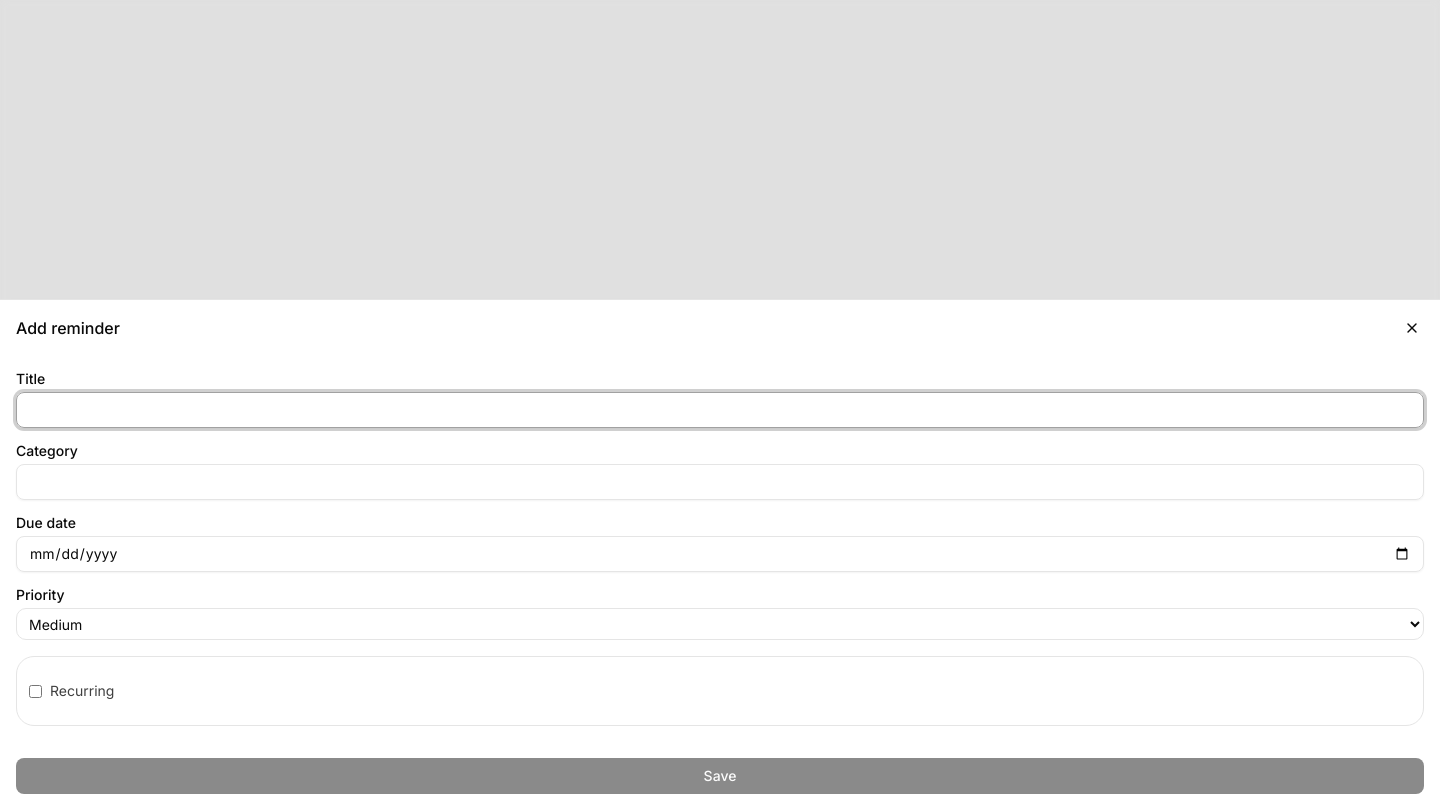
ReminderForm › disables save when Custom frequency is selected and the interval count is cleared
Type "Water plants" into the field labelled "Title" at x=720, y=410, box [16, 392, 1424, 428]
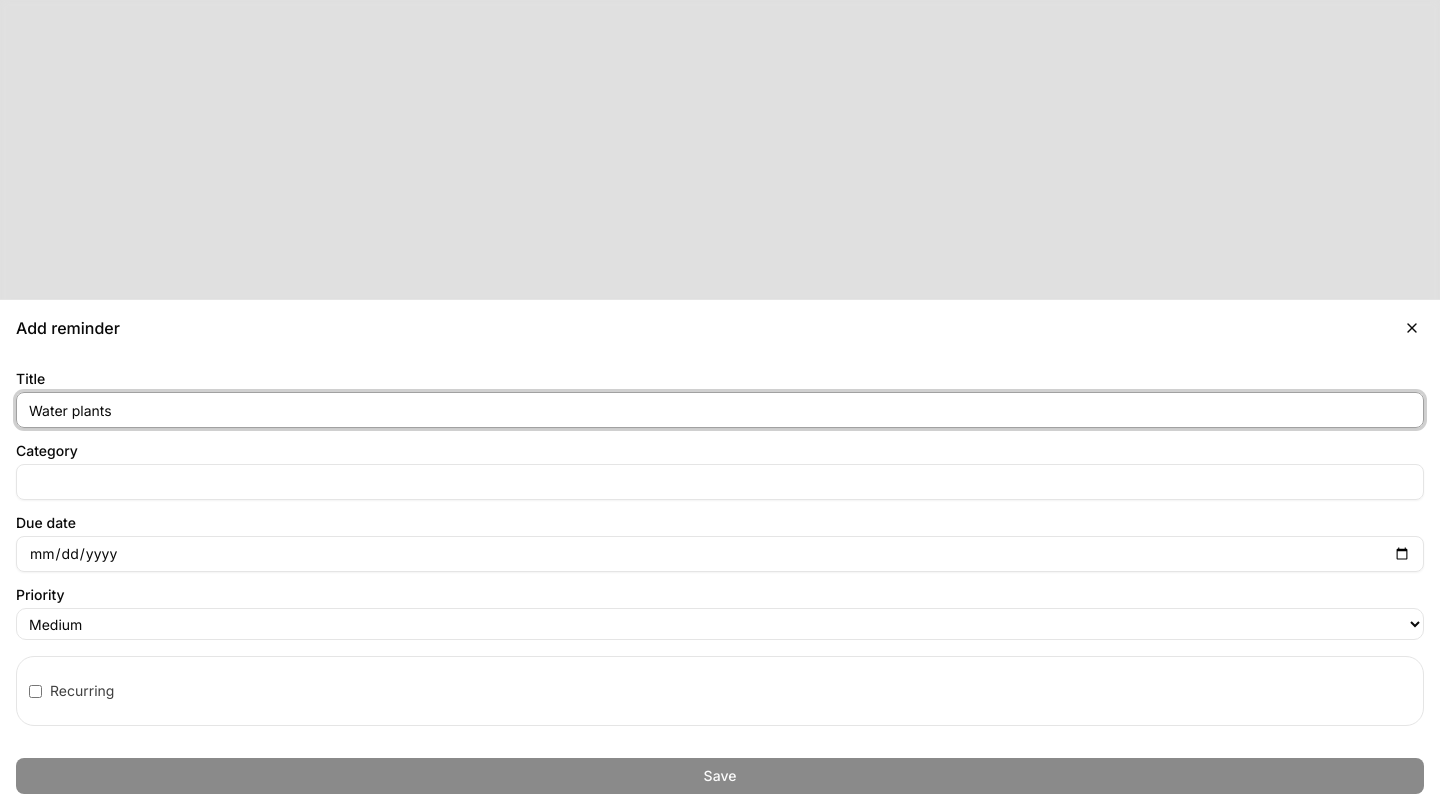
Type "Home" into the field labelled "Category" at x=720, y=482, box [16, 464, 1424, 500]
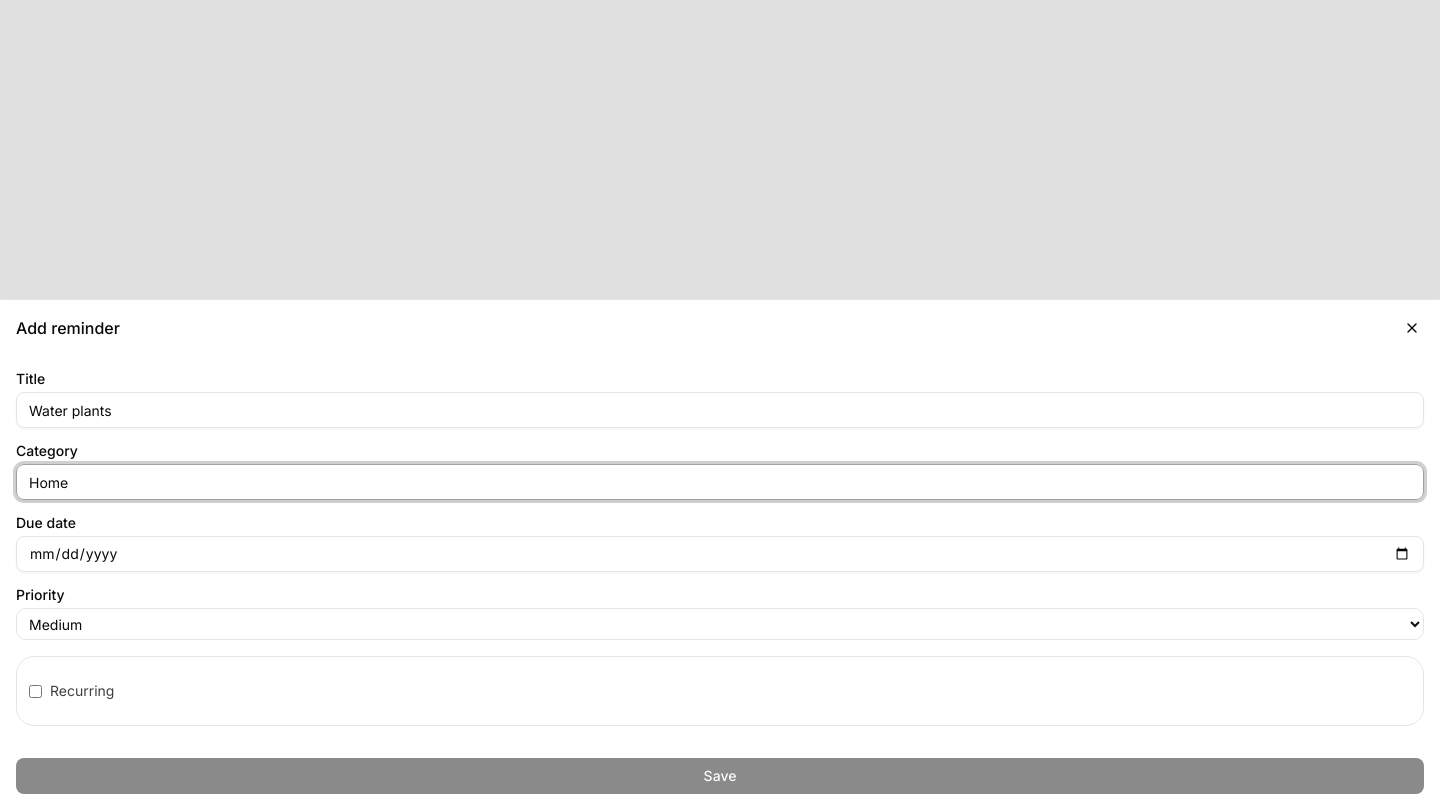
Type "2026-09-01" into the date field labelled "Due date" at x=720, y=554, box [16, 536, 1424, 572]
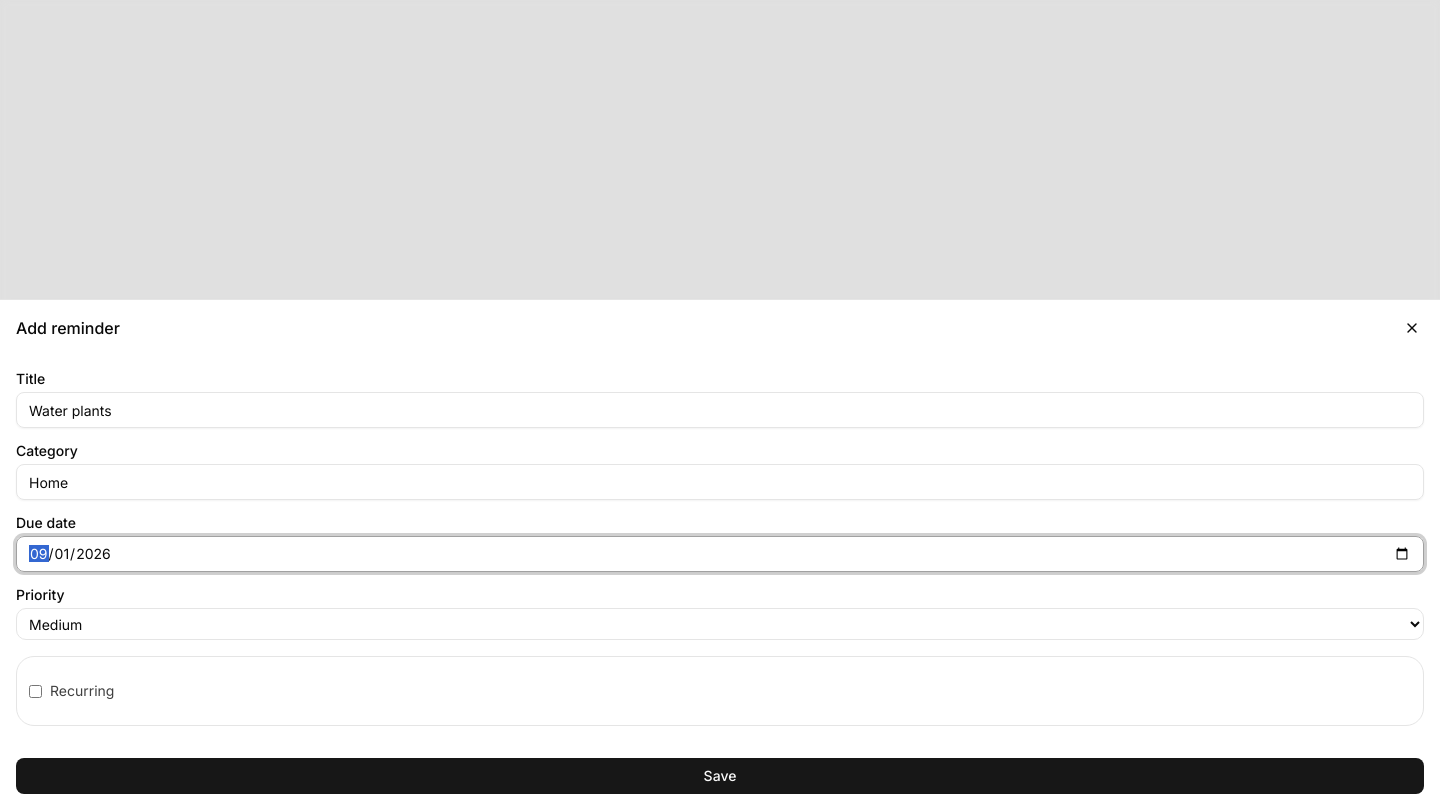
Click the checkbox labelled "Recurring" at x=36, y=691, box [29, 684, 42, 698]
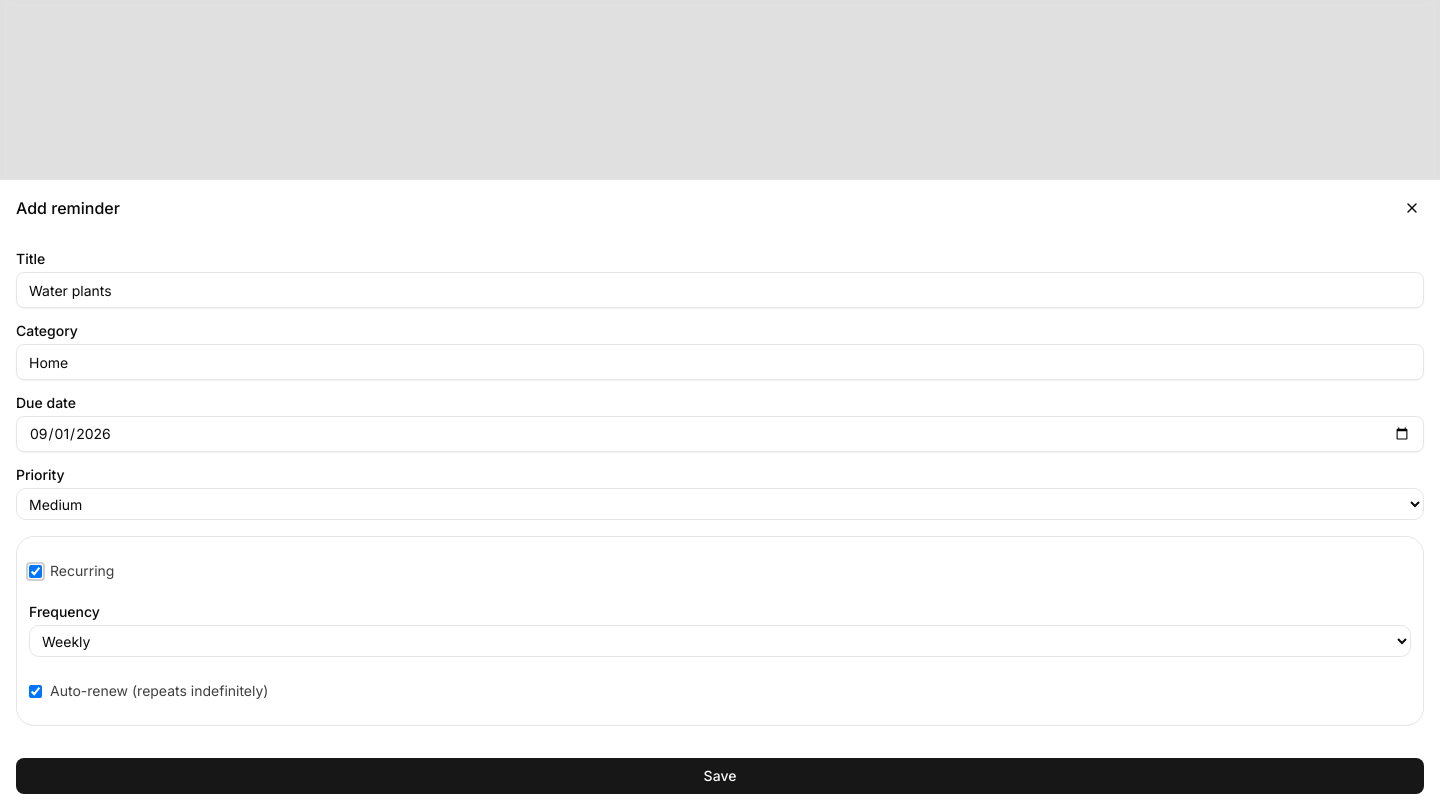
Select "Custom" in the dropdown labelled "Frequency" at x=720, y=641, box [29, 625, 1411, 657]
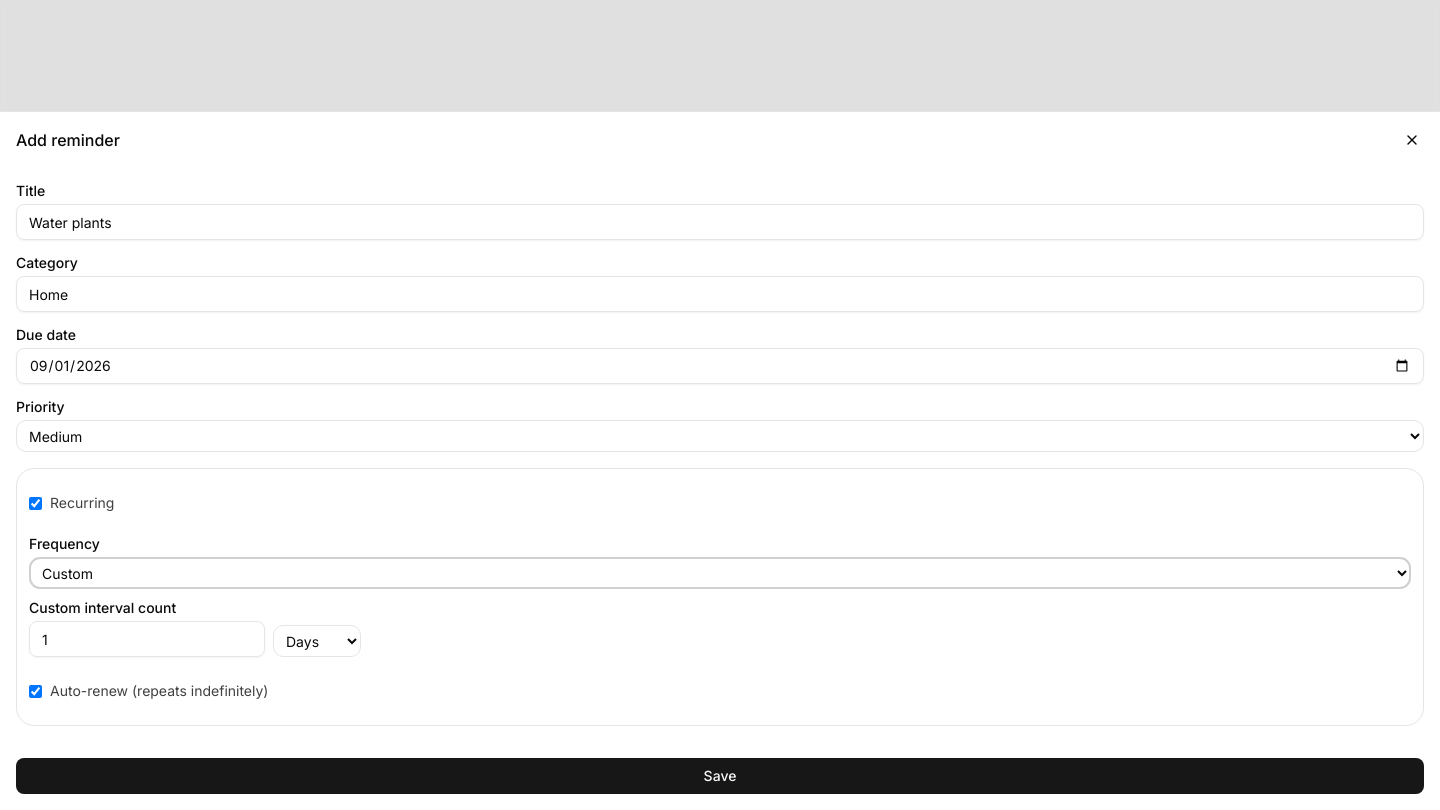
Expected: the button "Save" is enabled, [16, 758, 1424, 794]
Clear the number field labelled "Custom interval count" at x=147, y=639, box [29, 621, 265, 657]
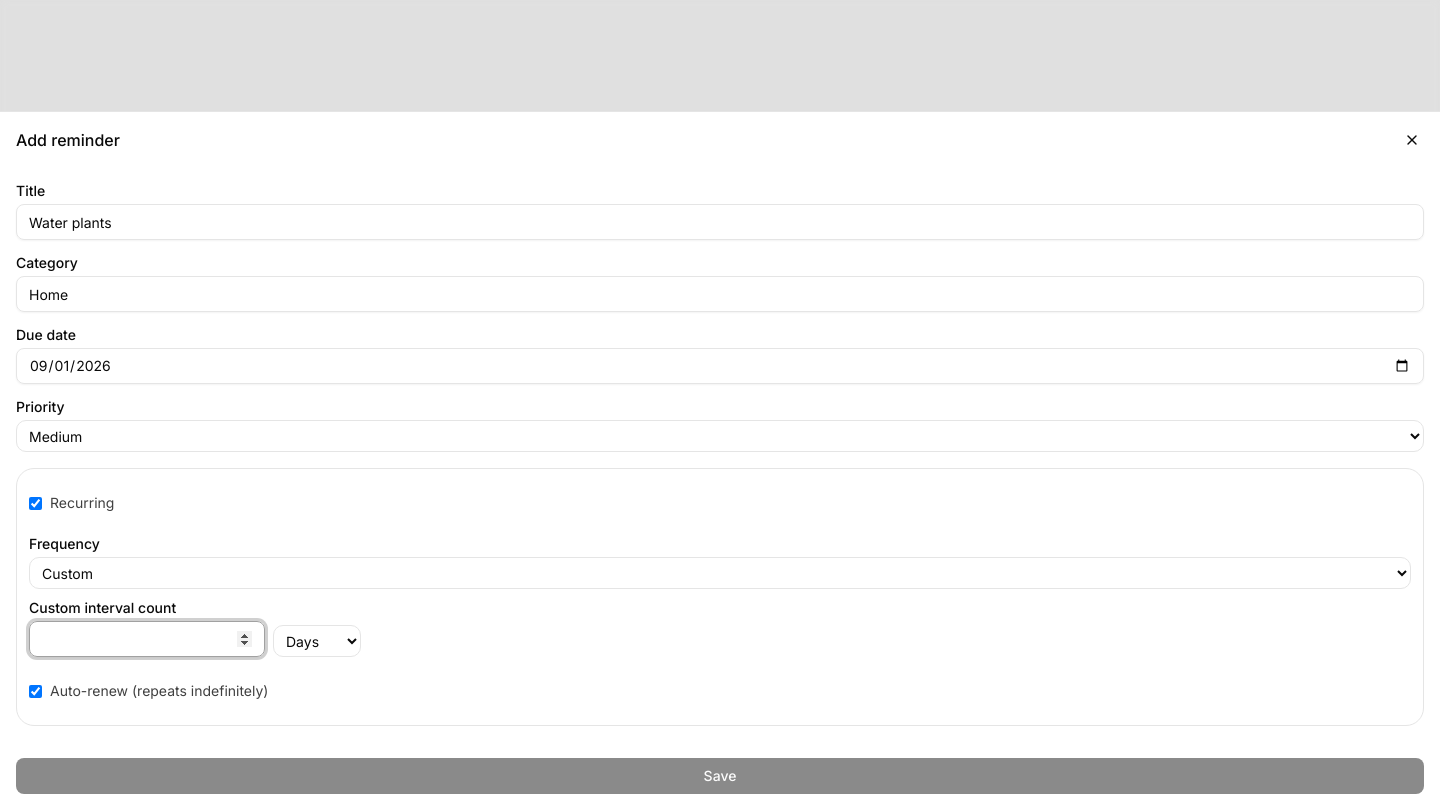
Expected: the button "Save" is disabled, [16, 758, 1424, 794]
